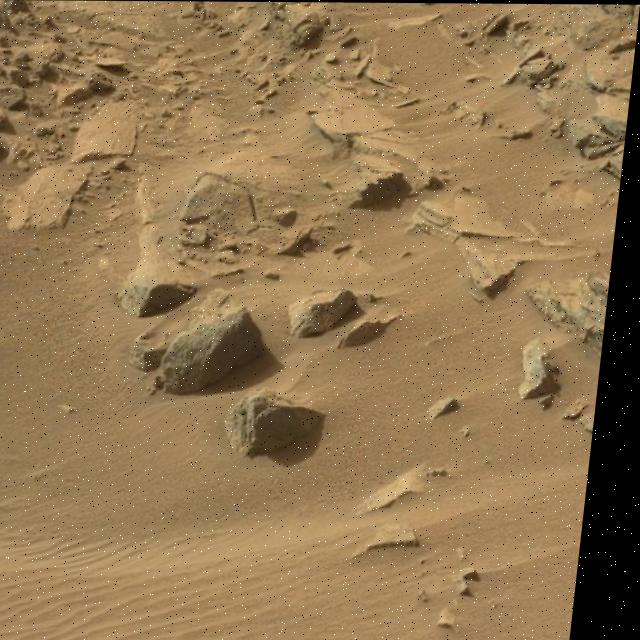mars-rocks: (168, 307, 272, 394), (235, 390, 334, 456), (295, 291, 363, 337)
